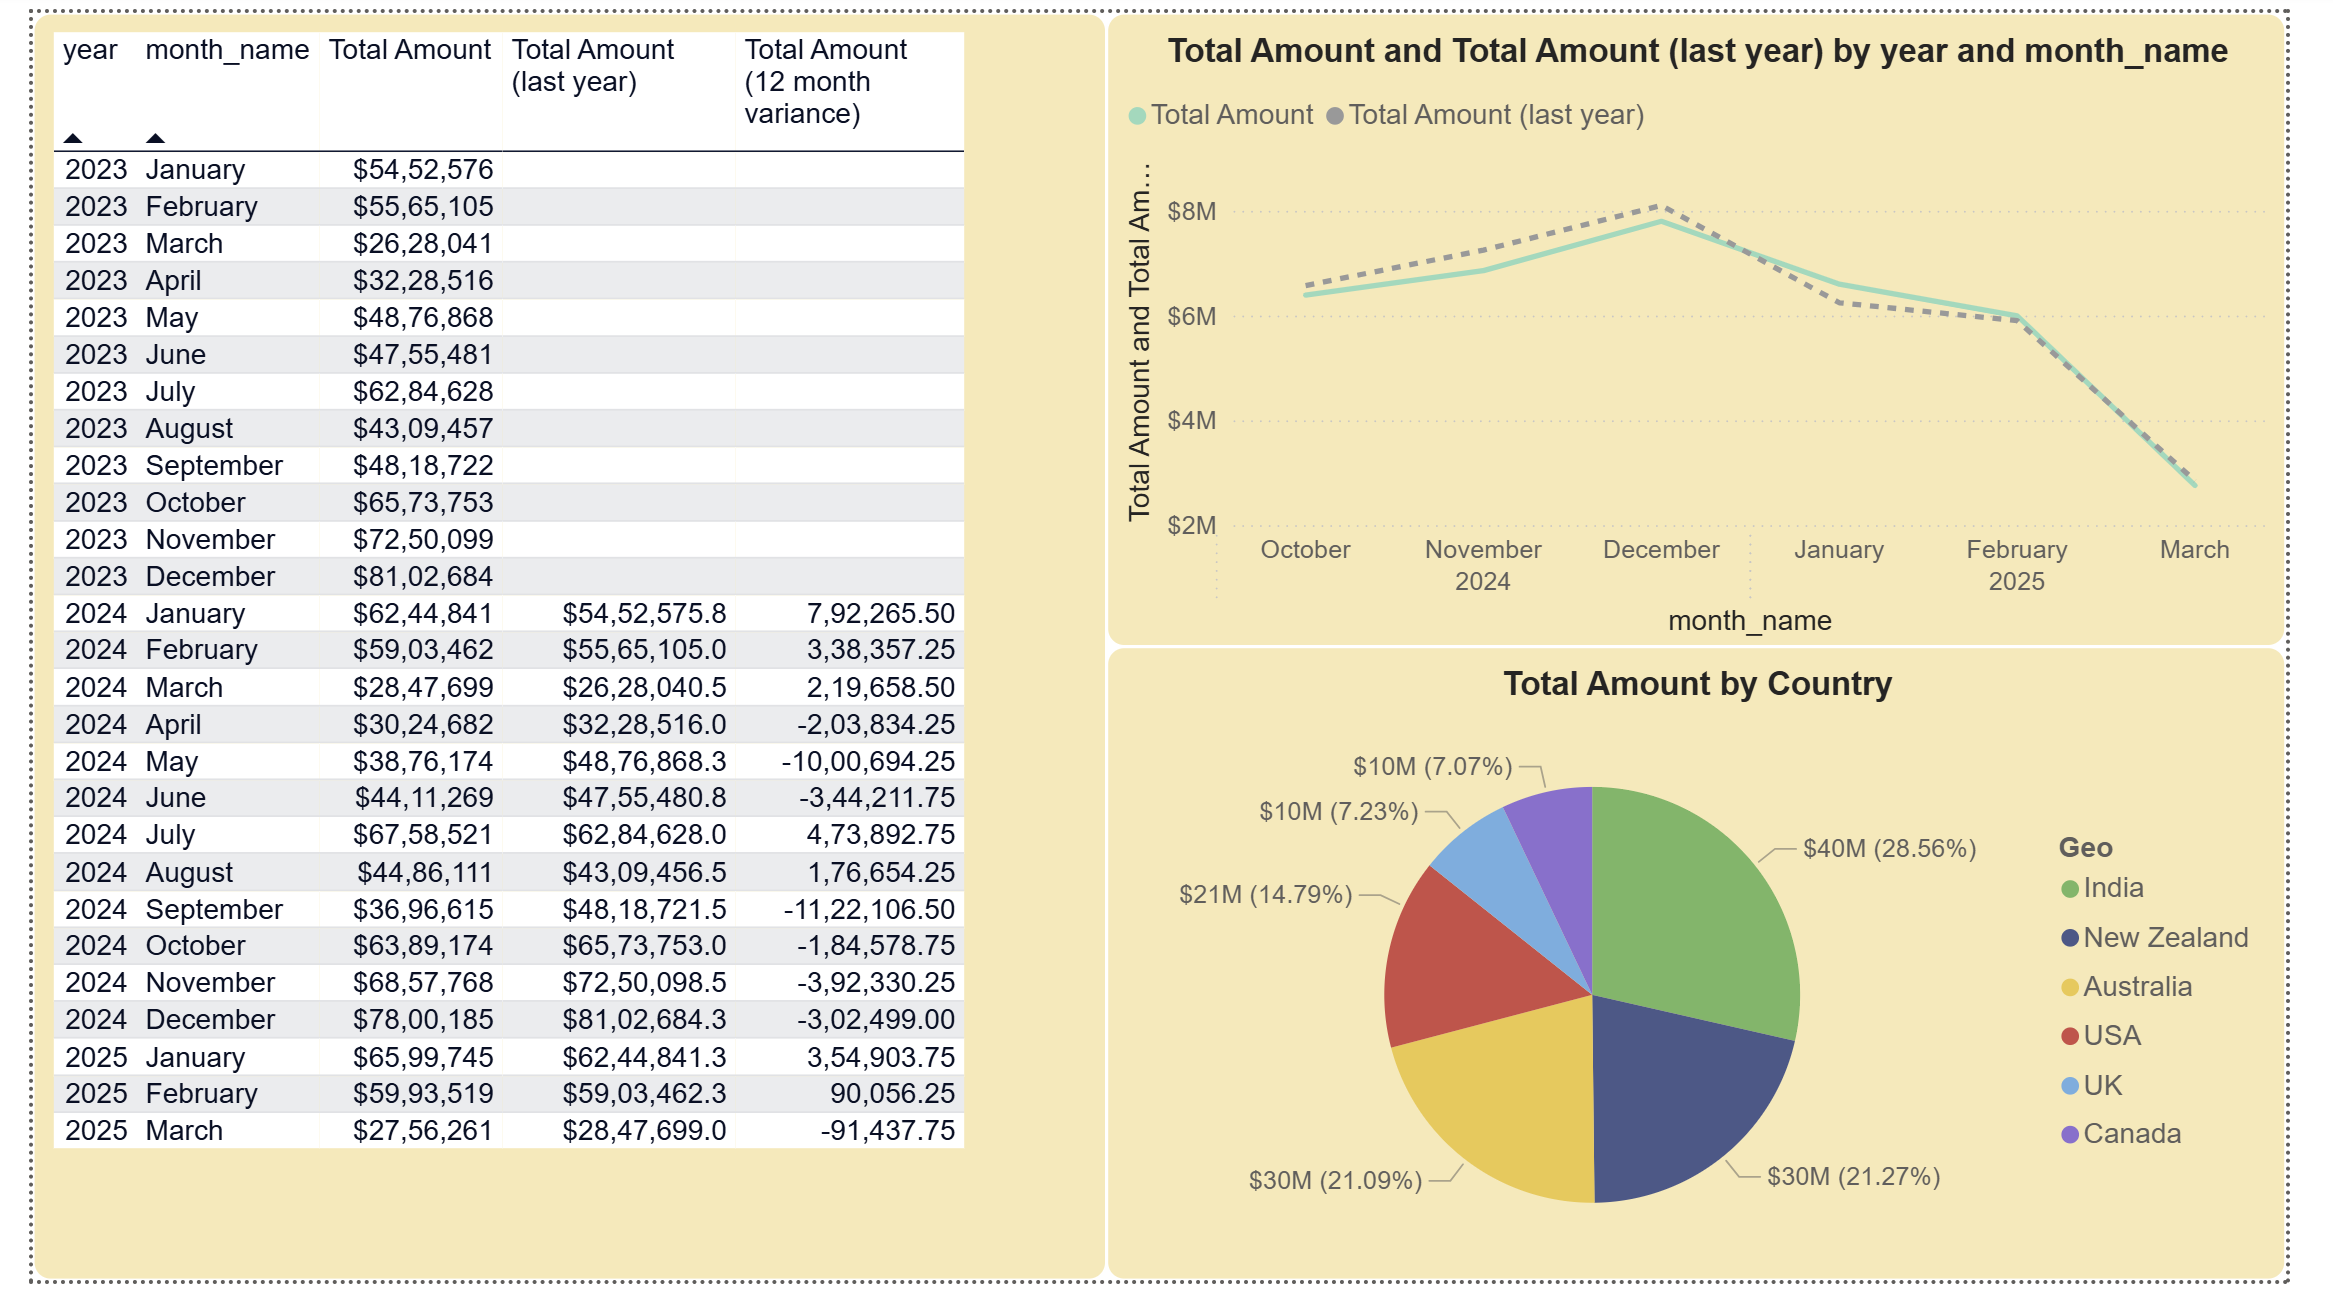

What the dashboard file says about the page in this screenshot:
{"tool":"powerbi","page":{"name":"Page 6","canvas":[1280,720],"ordinal":5},"visuals":[{"type":"tableEx","fields":{"Values":["calendar.year","calendar.month_name","shipments.Total Amount","shipments.Total Amount (last year)","shipments.Total Amount (12 month variance)"]},"box":[0,0,610,720],"z":0},{"type":"lineChart","fields":{"Category":["calendar.year","calendar.month_name"],"Y":["shipments.Total Amount","shipments.Total Amount (last year)"]},"box":[610,0,670,360],"z":1000},{"type":"pieChart","title":"Total Amount by Country","fields":{"Category":["locations.Geo"],"Y":["shipments.Total Amount"]},"box":[610,360,670,360],"z":2000}]}

Visuals, with their boxes in screenshot pixels (x1, y1, x2, y2), scaled from the page's 1280x720 canvas onto the 2333x1293 screenshot:
tableEx - calendar.year x calendar.month_name: box(0, 0, 1112, 1292)
lineChart - calendar.year x calendar.month_name: box(1112, 0, 2332, 646)
"Total Amount by Country" pieChart: box(1112, 646, 2332, 1292)
